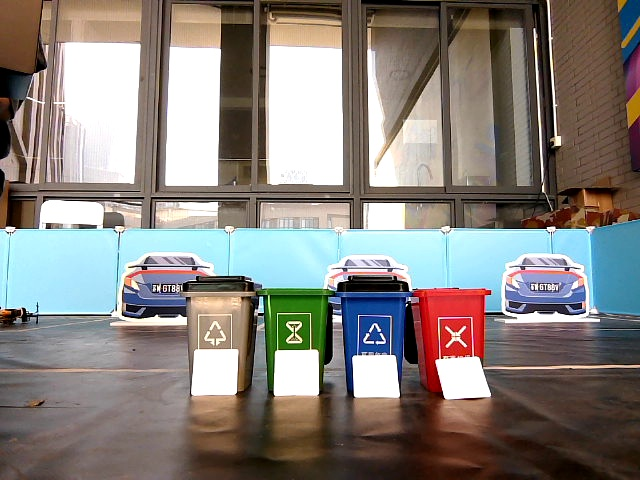blue_close: (342, 275, 403, 355)
green_open: (266, 288, 325, 349)
grey_close: (188, 275, 252, 348)
red_open: (421, 288, 482, 355)
